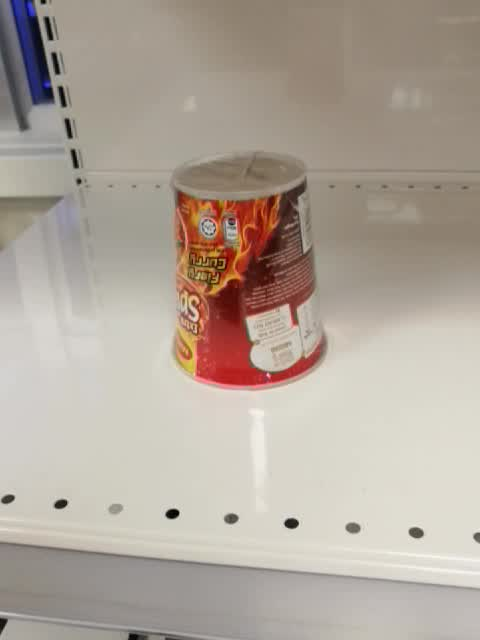maggi: (168, 149, 330, 391)
